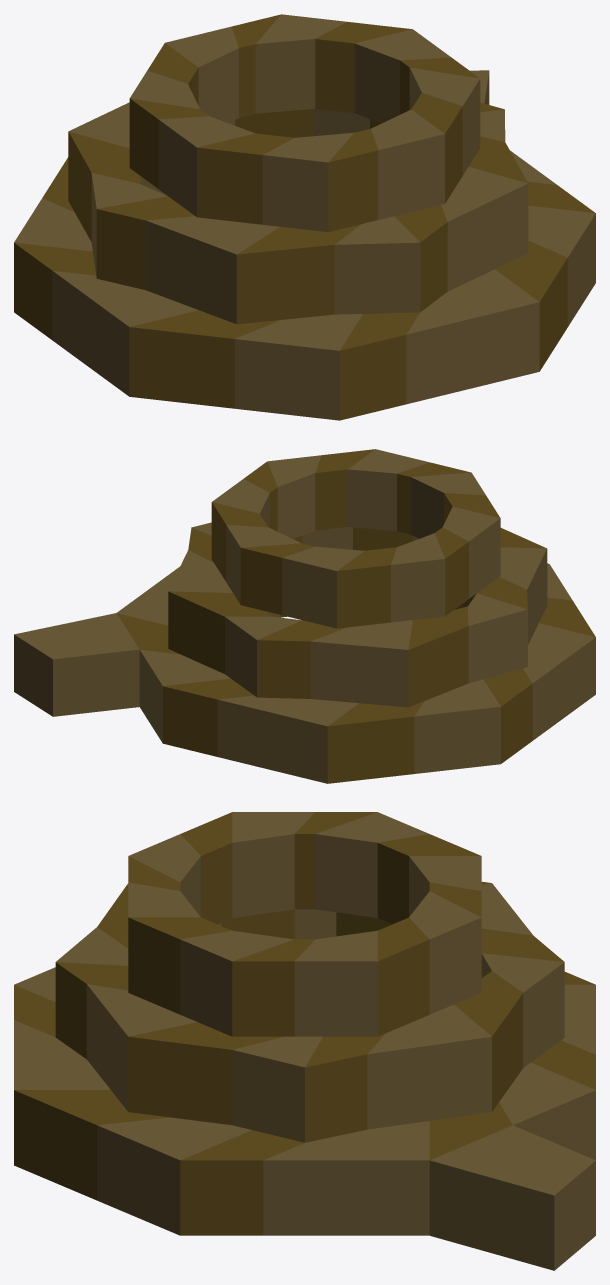
The model's file is obj_pile_of_rope_0.obj.
3 views of the same model, one above another, from view 1: azimuth 30°, elevation 25°; view 2: azimuth 150°, elevation 25°; view 3: azimuth 270°, elevation 25° (orthographic). The views are drawn at different scales.
Size of the model in its own units: 0.5 by 0.1875 by 0.4375.
